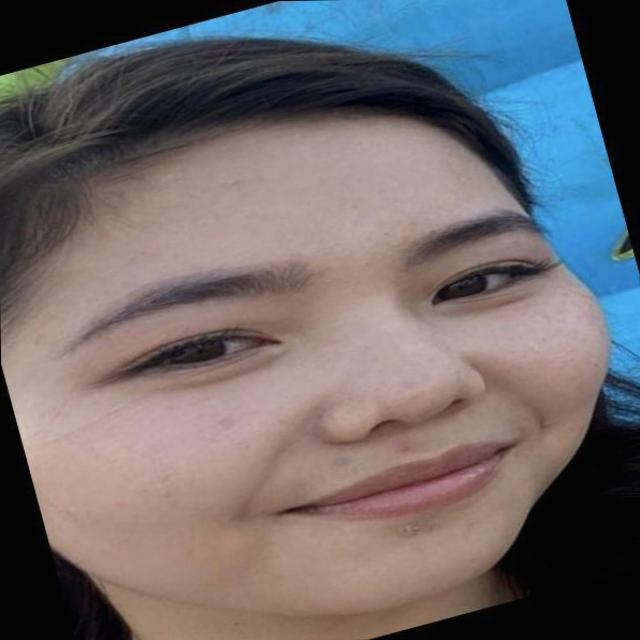nodules: (392, 517, 428, 541), (388, 435, 420, 460)
